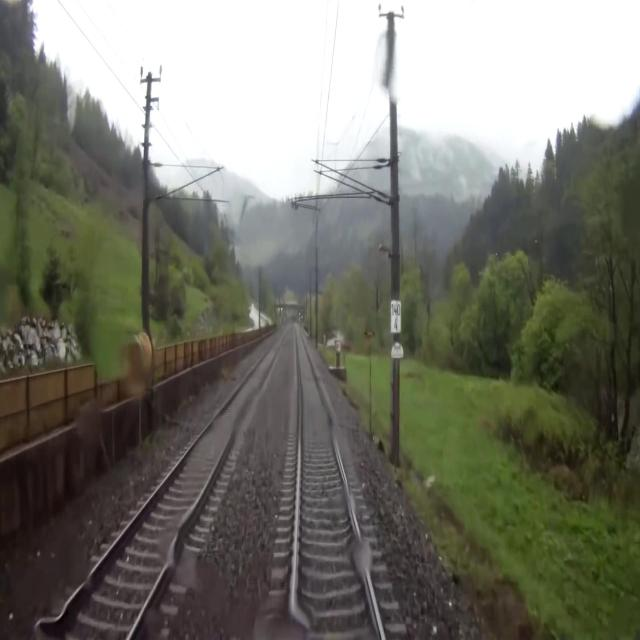rail-track: (42, 322, 291, 639), (292, 324, 382, 639)
